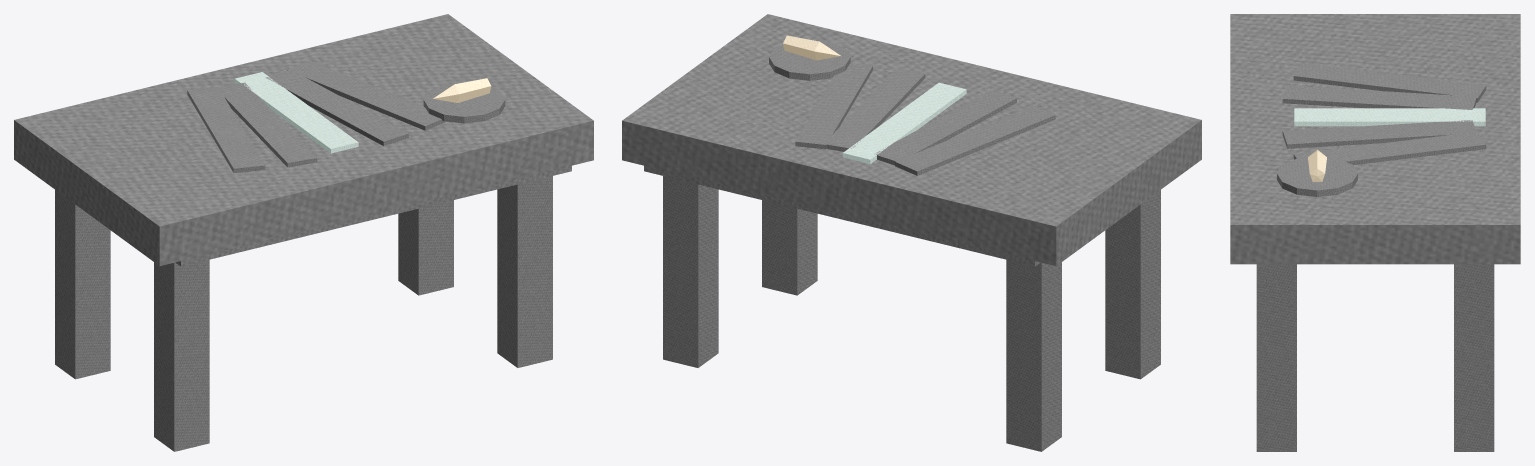
The model's file is decor-strata-map-table.glb.
3 views of the same model, side by side, from view 1: azimuth 30°, elevation 25°; view 2: azimuth 150°, elevation 25°; view 3: azimuth 270°, elevation 25° (orthographic).
Visible parts, largest first — view 1: top, leg--0.68-0.34, leg-0.68-0.34, leg--0.68--0.34, leg-0.68--0.34, strata-3, strata-4, strata-2, strata-1, strata-0, edge-band-back, compass-ring (+1 smaller); view 2: top, leg--0.68--0.34, leg-0.68--0.34, leg--0.68-0.34, leg-0.68-0.34, strata-0, strata-1, strata-2, strata-3, strata-4, edge-band-front, compass-ring (+1 smaller); view 3: top, leg-0.68--0.34, leg-0.68-0.34, strata-3, strata-1, strata-0, strata-2, strata-4, compass-ring, compass-point.
Part boxes in pixels (bbox=[...]): top: bbox=[14, 14, 593, 265]; leg--0.68-0.34: bbox=[154, 259, 209, 451]; leg-0.68-0.34: bbox=[497, 176, 552, 367]; leg--0.68--0.34: bbox=[55, 190, 110, 379]; leg-0.68--0.34: bbox=[398, 200, 453, 295]; strata-3: bbox=[266, 70, 408, 146]; strata-4: bbox=[287, 60, 445, 130]; strata-2: bbox=[234, 72, 358, 153]; strata-1: bbox=[216, 82, 317, 167]; strata-0: bbox=[187, 86, 264, 173]; edge-band-back: bbox=[175, 165, 571, 266]; compass-ring: bbox=[423, 82, 505, 123]; top: bbox=[622, 14, 1201, 265]; leg--0.68--0.34: bbox=[1006, 259, 1061, 451]; leg-0.68--0.34: bbox=[663, 176, 718, 367]; leg--0.68-0.34: bbox=[1105, 190, 1160, 379]; leg-0.68-0.34: bbox=[762, 200, 817, 295]; strata-0: bbox=[895, 105, 1055, 175]; strata-1: bbox=[874, 90, 1016, 165]; strata-2: bbox=[842, 82, 966, 164]; strata-3: bbox=[824, 68, 925, 151]; strata-4: bbox=[795, 63, 872, 149]; edge-band-front: bbox=[644, 165, 1040, 266]; compass-ring: bbox=[769, 40, 850, 80]; top: bbox=[1230, 14, 1520, 264]; leg-0.68--0.34: bbox=[1454, 264, 1494, 451]; leg-0.68-0.34: bbox=[1256, 264, 1296, 451]; strata-3: bbox=[1282, 120, 1476, 148]; strata-1: bbox=[1282, 85, 1476, 109]; strata-0: bbox=[1293, 63, 1486, 102]; strata-2: bbox=[1294, 108, 1485, 126]; strata-4: bbox=[1293, 131, 1486, 165]; compass-ring: bbox=[1277, 157, 1357, 196]; compass-point: bbox=[1308, 149, 1326, 181].
Bounding box in the file's own units: 1.72 × 1.02 × 1.
8 materials, 8 textured.
